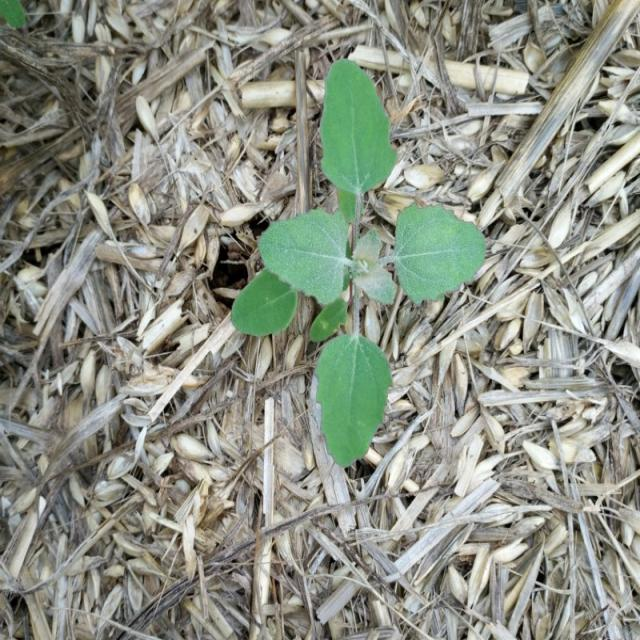goosefoots: (190, 67, 482, 404)
